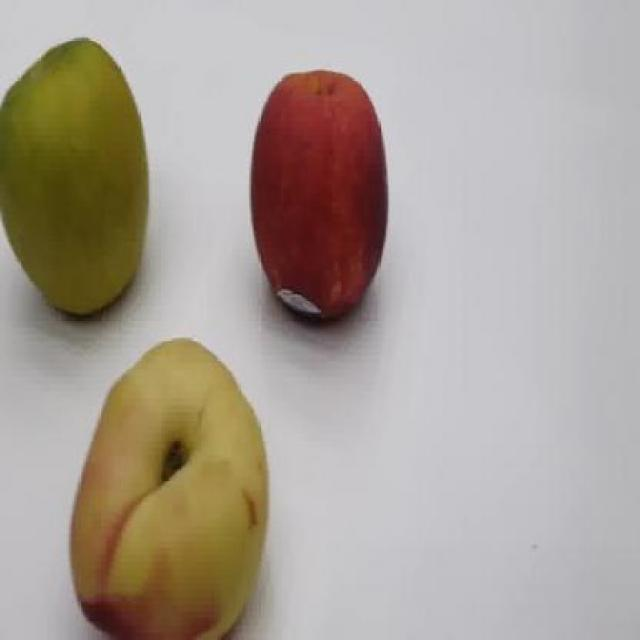Fresh Apple: (70, 333, 275, 640), (1, 39, 152, 324), (251, 68, 393, 327)
